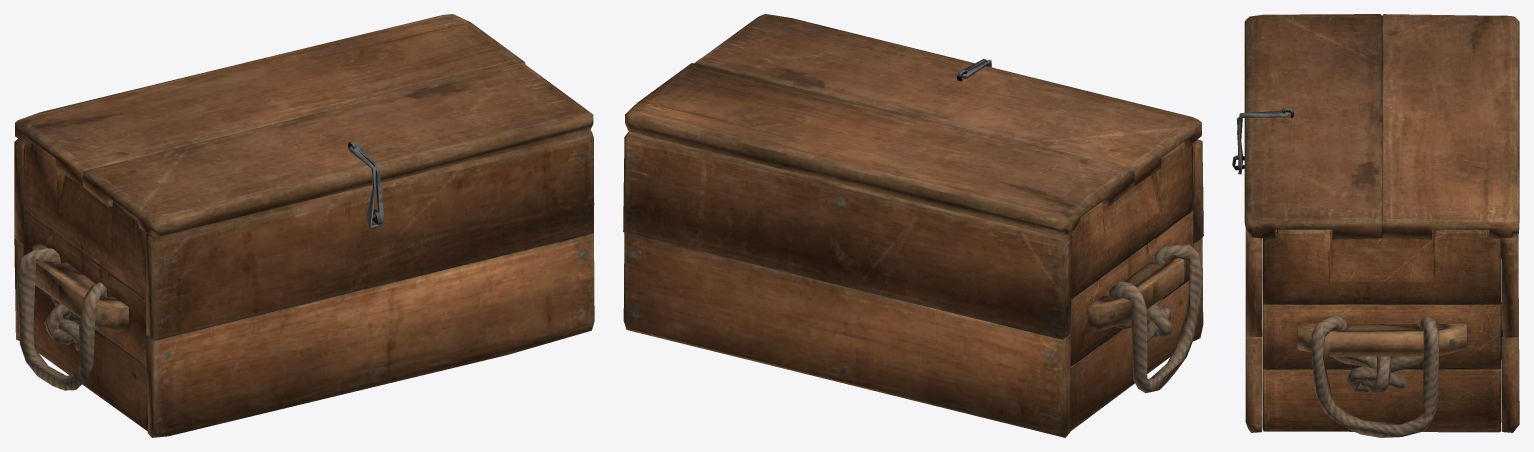
File: woodCrate.glb
3 renders of one model, left to right at view 1: azimuth 30°, elevation 25°; view 2: azimuth 150°, elevation 25°; view 3: azimuth 270°, elevation 25°, orthographic. The views are drawn at different scales.
Parts seen in each view (by area): view 1: wooden_crate_01_lid; view 2: wooden_crate_01_lid; view 3: wooden_crate_01_lid.
Boxes of the visible parts, left/top/right/bottom form: wooden_crate_01_lid: left=14, top=14, right=594, bottom=437; wooden_crate_01_lid: left=623, top=14, right=1203, bottom=437; wooden_crate_01_lid: left=1232, top=14, right=1519, bottom=437.
Size of the model in its own units: 0.8245 by 0.3495 by 0.4083.
1 material, 1 textured.
